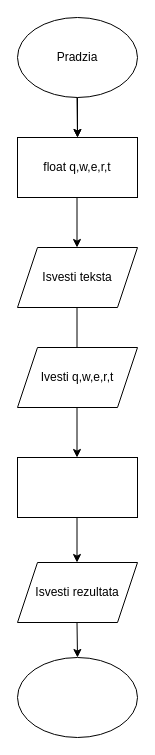
Image size: 155x755. Some labels were removed from this diagram. Each missing label, with the box of its shape:
(q+w+e+r+t)/5: (16, 456, 138, 518)
Pabaiga: (16, 656, 138, 738)
